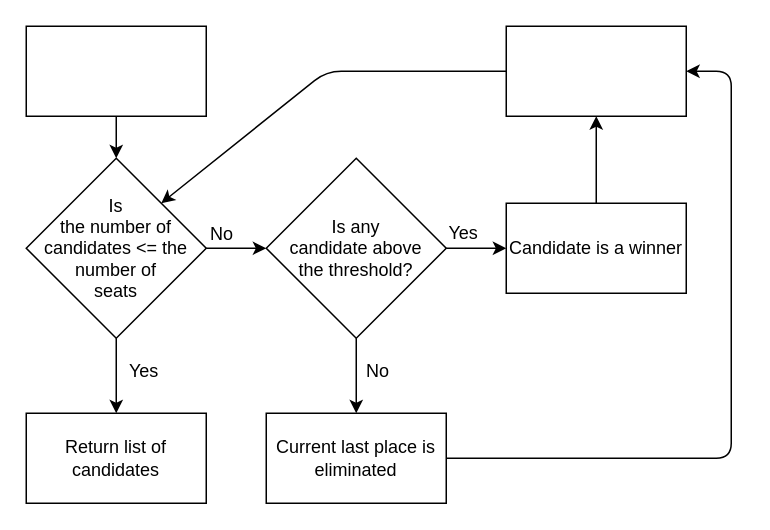
Some shapes in this 770 by 530 pixel diagram are drawn without their labels. The centre of each missing label's shape, as x and y in pixels:
"Lists of ranked candidates" goes at (x=115, y=70).
"Unused votes are given to the next choice" goes at (x=595, y=70).
